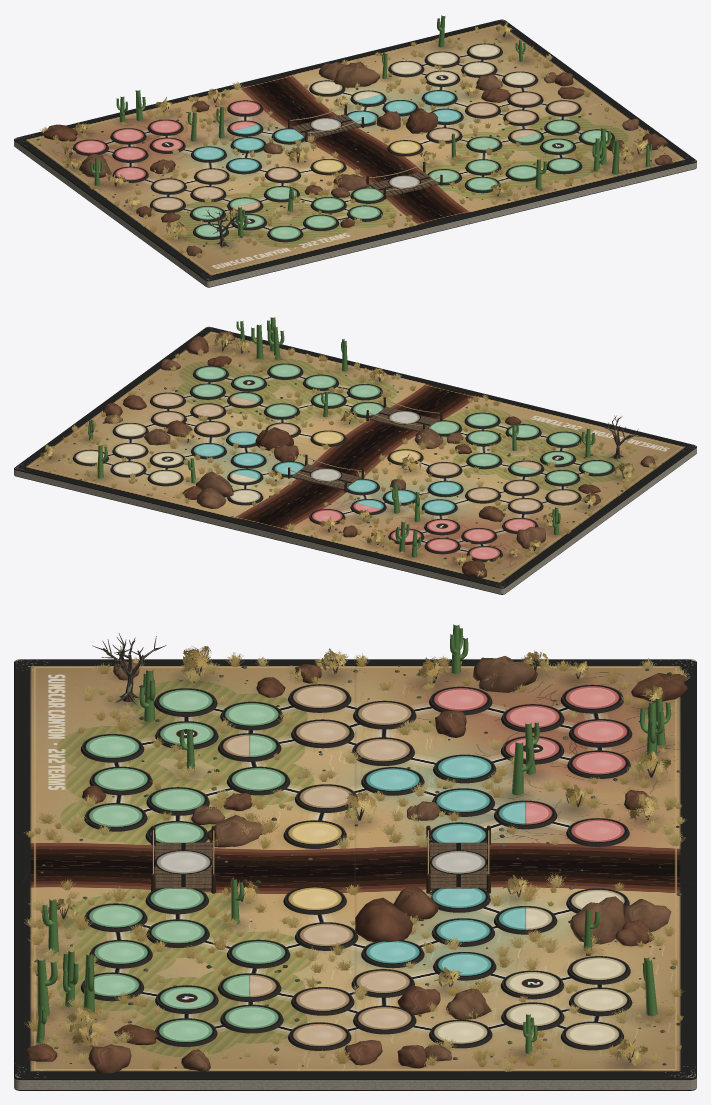
File: canyon.glb
3 renders of one model, top to bottom at view 1: azimuth 30°, elevation 25°; view 2: azimuth 150°, elevation 25°; view 3: azimuth 270°, elevation 25°, orthographic. The views are drawn at different scales.
Parts seen in each view (by area): view 1: board (×2), scenery (×11); view 2: board (×2), scenery (×11); view 3: board (×59), scenery (×12).
Boxes of the visible parts, <box> form: board (×2): <box>14,19,696,287</box>; scenery (×11): <box>36,15,672,259</box>; board (×2): <box>14,326,696,594</box>; scenery (×11): <box>36,317,663,578</box>; board (×59): <box>14,659,696,1090</box>; scenery (×12): <box>24,624,689,1073</box>.
Bounding box in the file's own units: 12.5 × 1.18 × 8.6.
27 materials, 21 textured.
